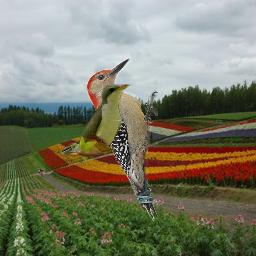Cuckoo: (61, 82, 131, 165)
Woodpecker: (87, 56, 158, 222)
